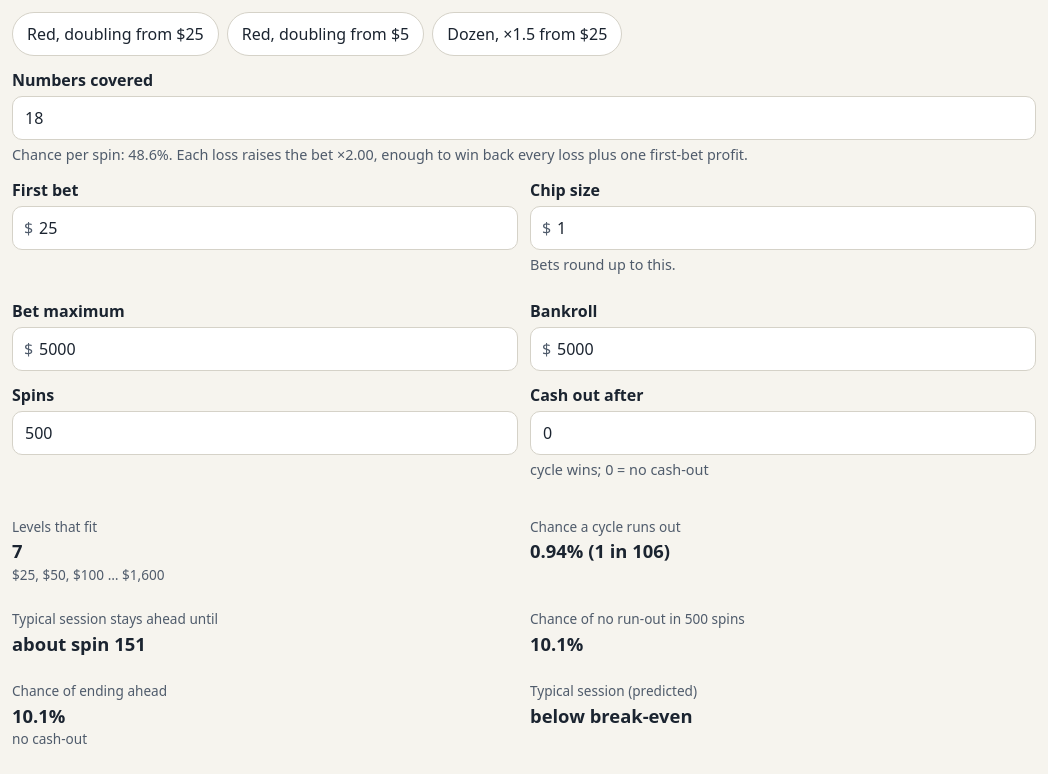
Scenario: LadderCalculator › a preset fills every field and the outputs follow
Click the button "Red, doubling from $5". click: (326, 34)
box: [227,12,424,56]
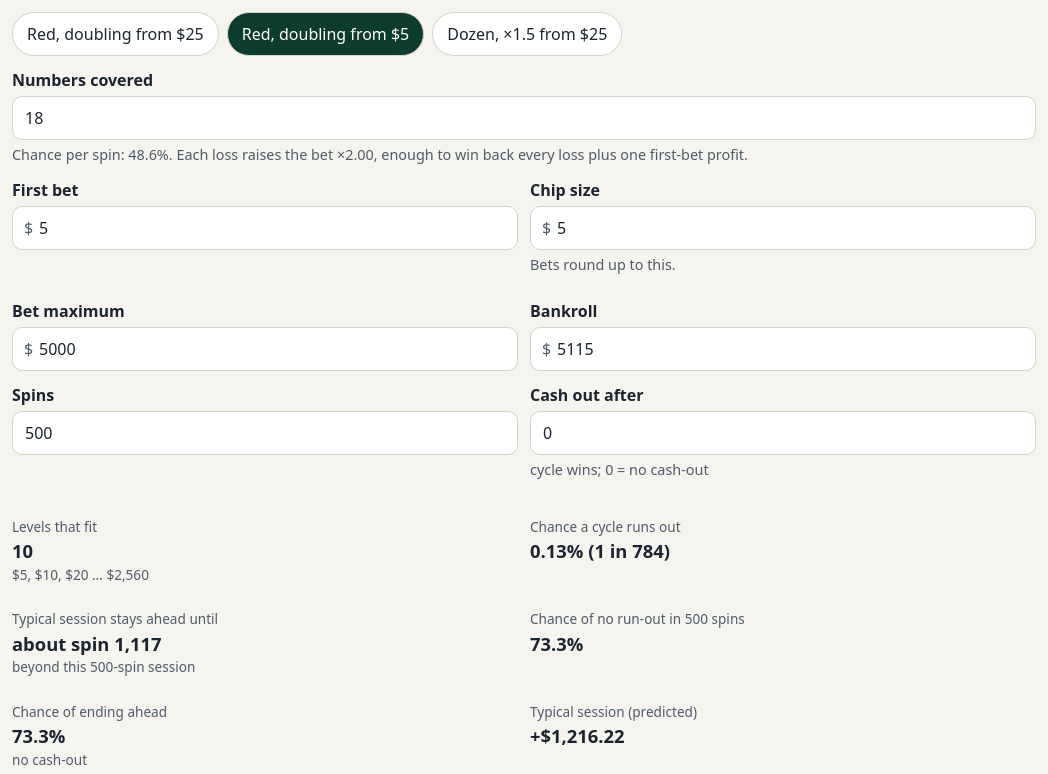
expect the text with class "stat-value" reads "10": met, box [12,538,33,563]
expect the text with class "stat-hint" reads "$5, $10, $20 … $2,560": met, box [12,565,149,584]
expect the element with class "stat" shows "1,117": met, box [12,631,162,656]
